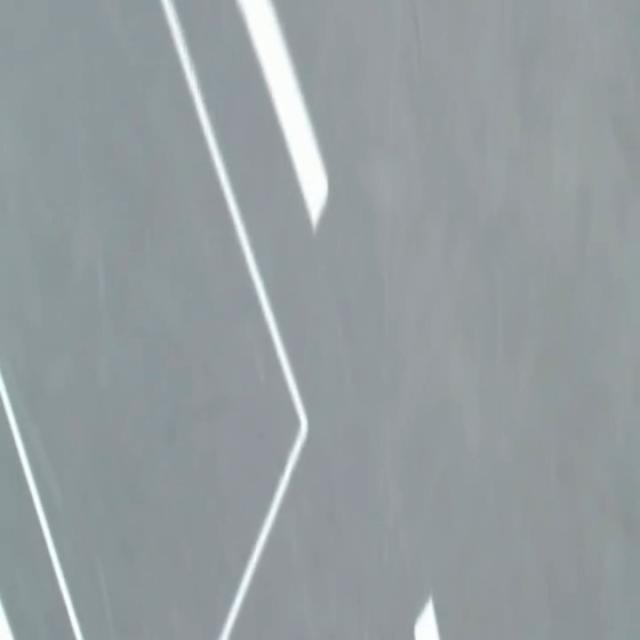center: (236, 0, 327, 231), (414, 596, 440, 639)
left: (0, 600, 13, 639)
